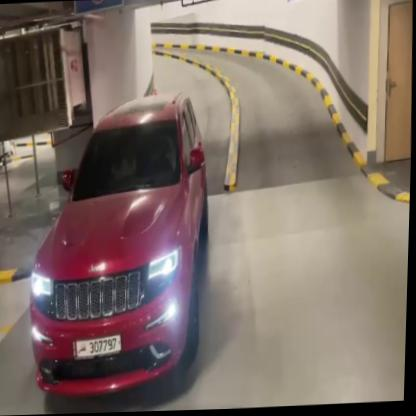np: (74, 335, 124, 358)
